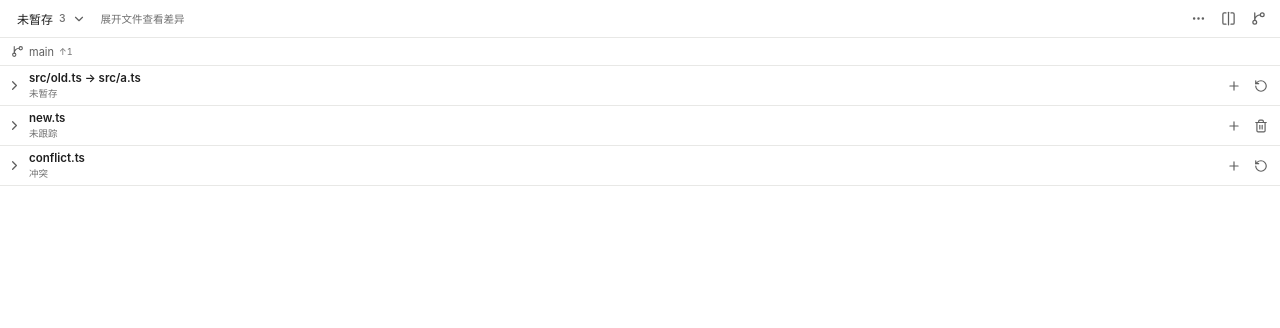
GitReviewPanel › 失败只影响展开文件并允许重试
Check: the text "main" is shown, box [29,44,54,58]
What coordinates should you click on to do the following:
click the button with aria-label "展开 new.ts"
I would click on:
 (47, 118)
Its box is [4,109,1169,142].
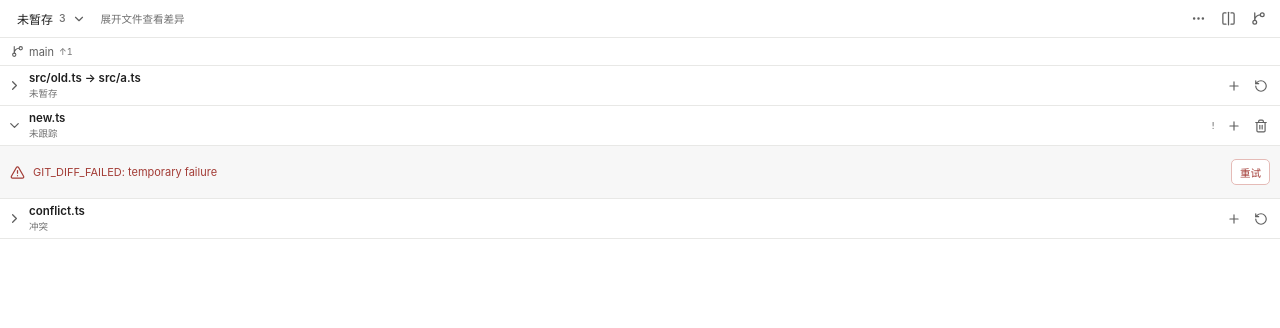
Check: the message shows "GIT_DIFF_FAILED: temporary failure", box [33,165,217,179]
What coordinates should you click on to do the following:
click the button "重试"
I would click on:
 (1250, 172)
Its box is [1231,159,1270,185].
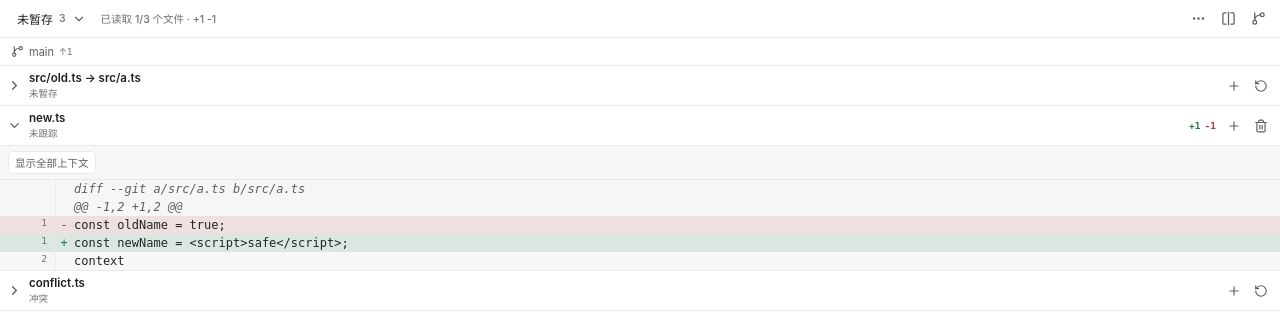
Check: the text "已读取 1/3 个文件 · +1 -1" is shown, box [101,11,216,26]
Check: the message "GIT_DIFF_FAILED: temporary failure 重试" is gone
